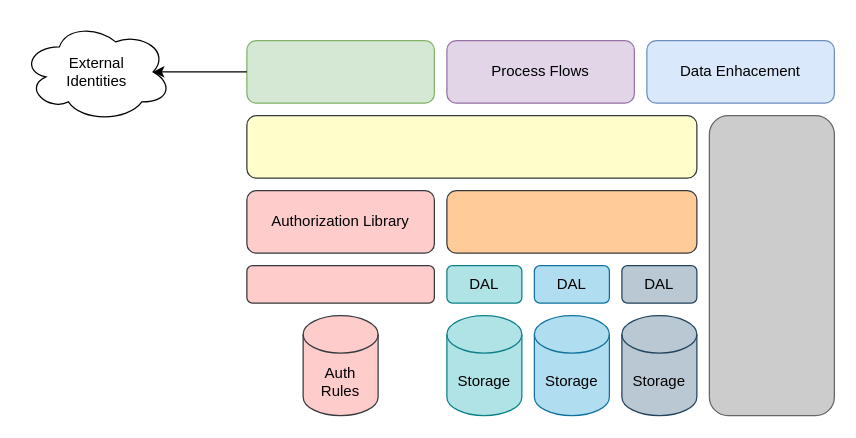
This 856x438 diagram has some shape labels left out. Here are the shapes that lost their labels. From the top down, the centre of each, then its label:
At (x=340, y=71): "User Interface".
At (x=471, y=146): "GraphQL API".
At (x=571, y=221): "Domain Library / Libraries".
At (x=340, y=283): "Auth Engine".
At (x=771, y=265): "OpenTelemetry Provider".
